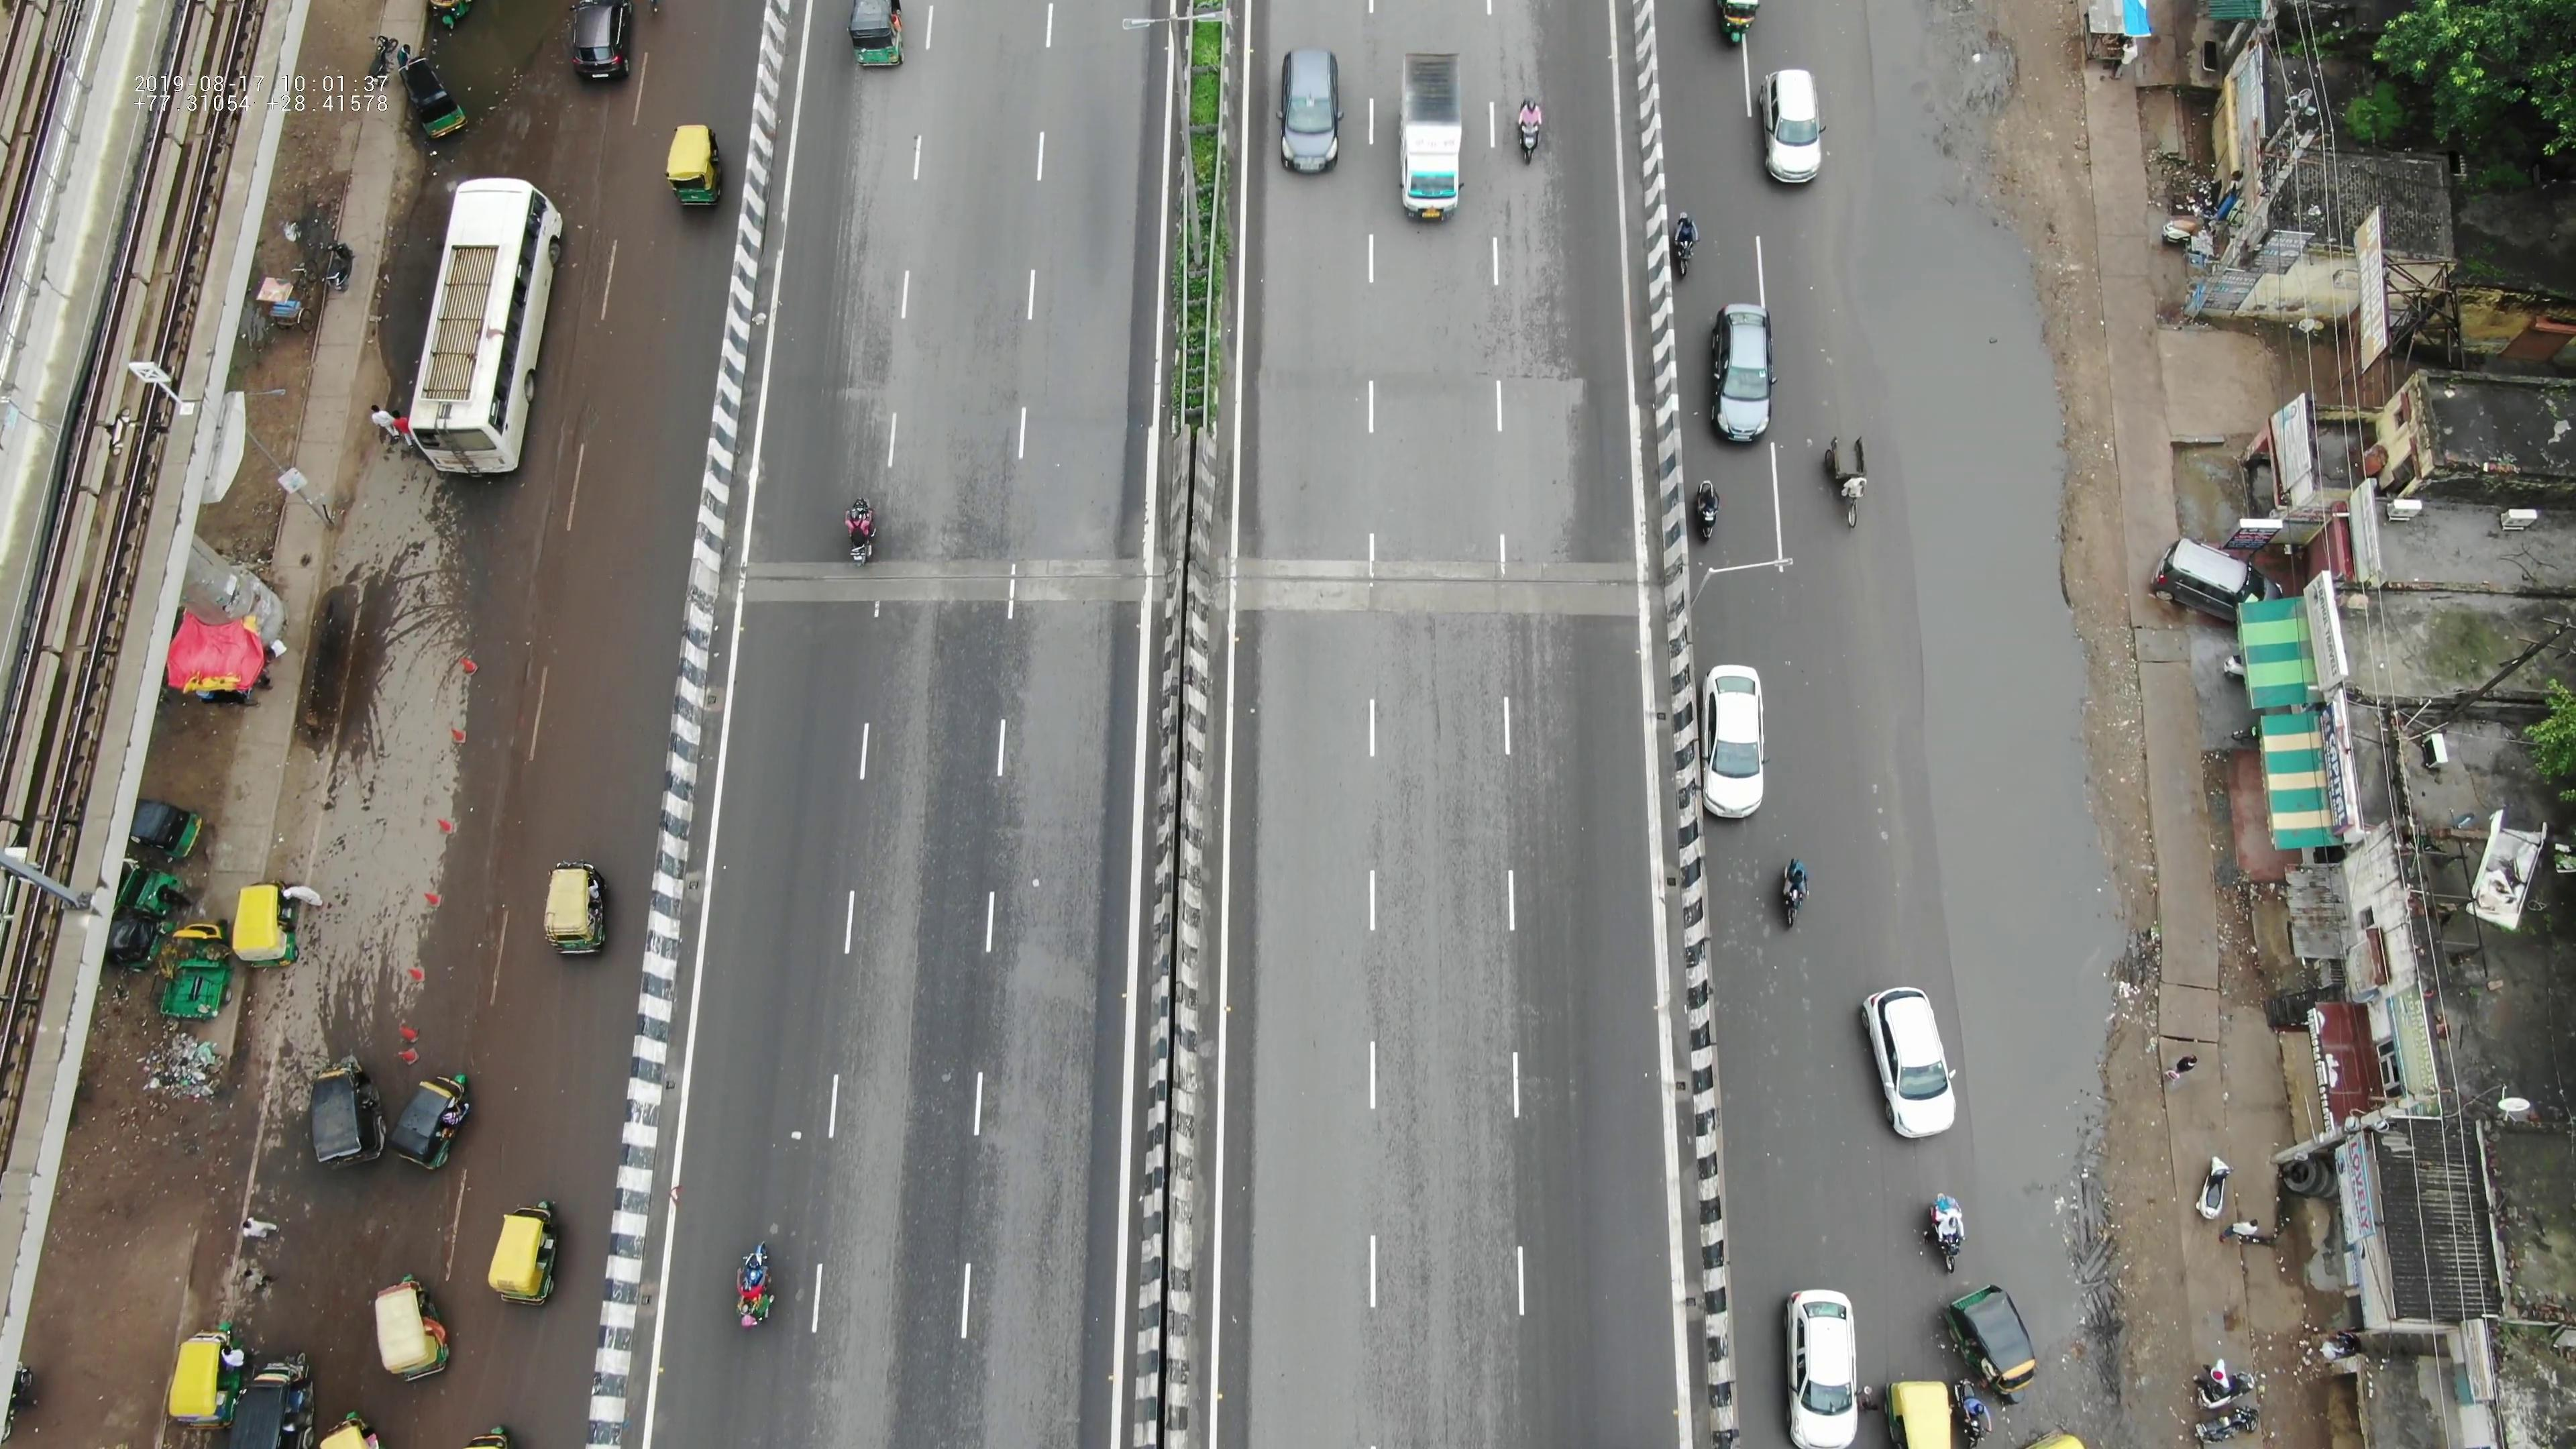Muddy_road: (458, 533, 653, 824), (550, 320, 686, 513), (441, 955, 557, 1079)
Waterlogging: (1870, 218, 2104, 948), (442, 37, 556, 108), (377, 264, 425, 379)
